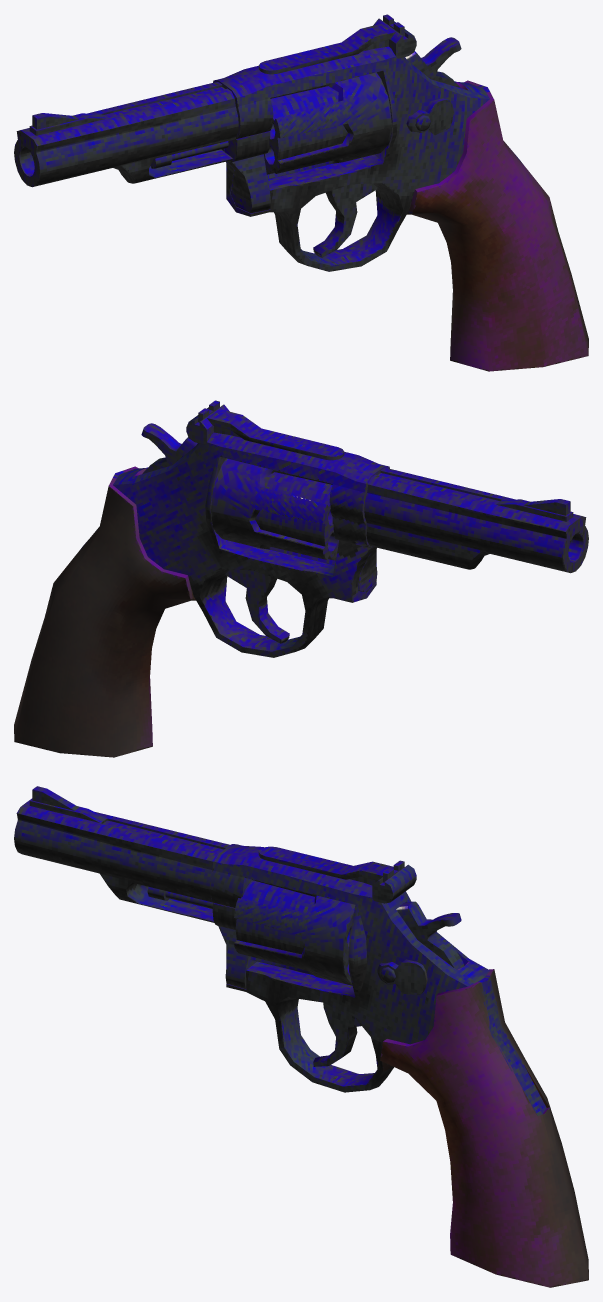
File: model19_blue.obj
3 views of the same model, one above another, from view 1: azimuth 30°, elevation 25°; view 2: azimuth 150°, elevation 25°; view 3: azimuth 330°, elevation 25° (orthographic).
Parts seen in each view (by area): view 1: revolver_temp; view 2: revolver_temp; view 3: revolver_temp.
Part boxes in pixels (x1,y1,x2,y2): revolver_temp: (14, 14, 588, 371); revolver_temp: (14, 400, 588, 757); revolver_temp: (14, 786, 588, 1287).
Bounding box in the file's own units: 10.51 × 6.53 × 1.59.
1 material, 1 textured.
